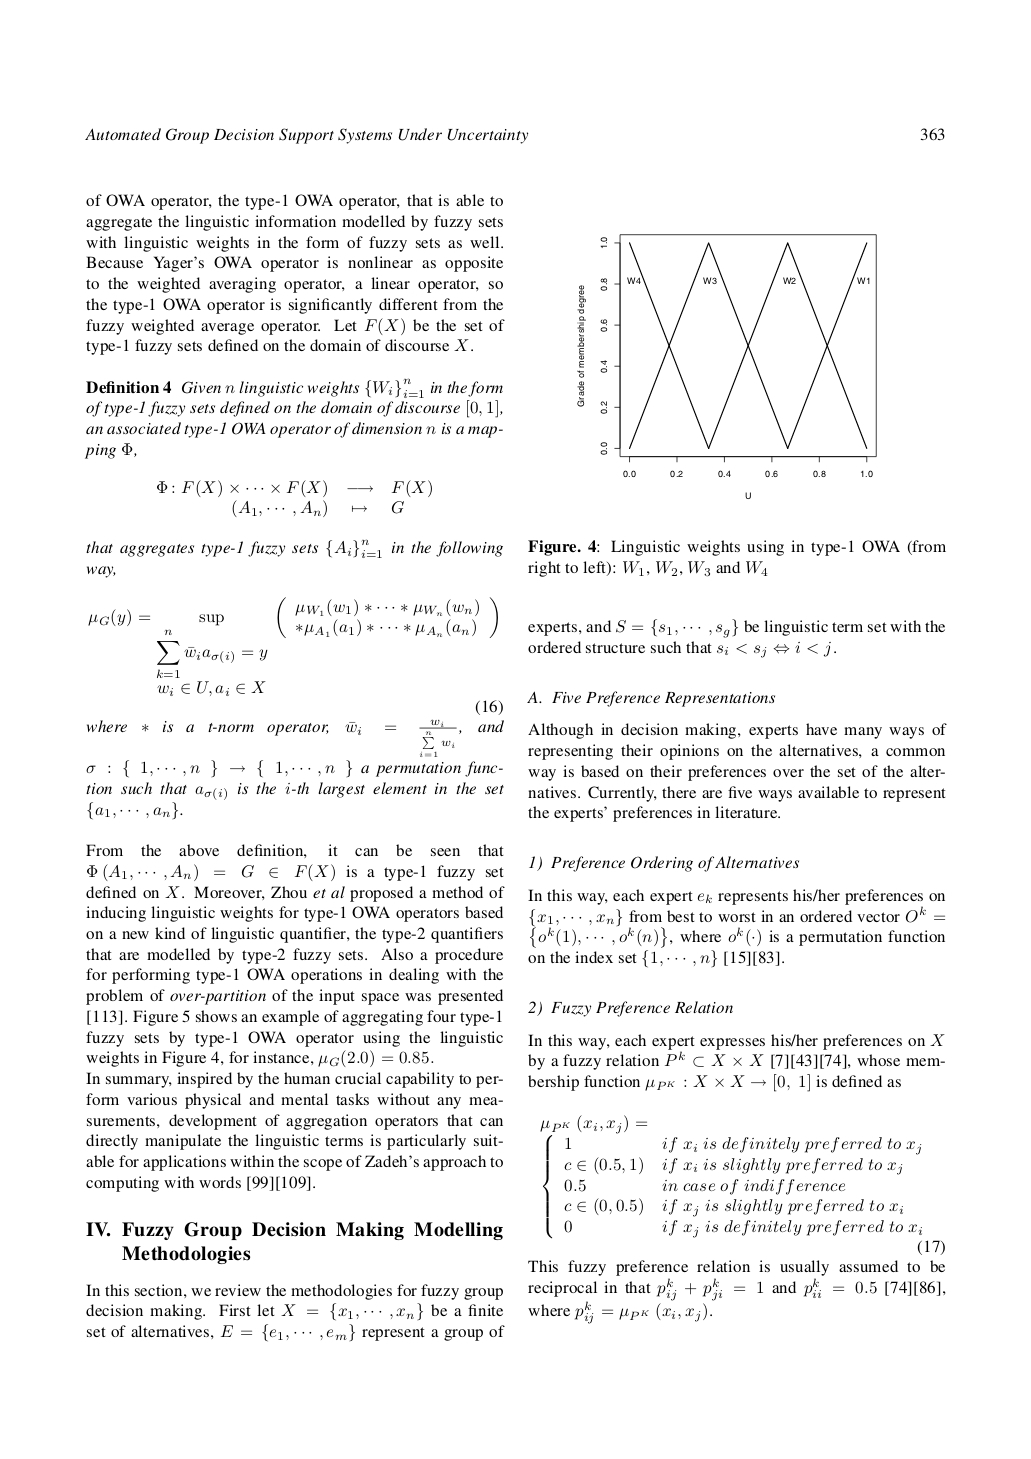figure: (577, 234, 876, 499)
formula: (540, 1114, 944, 1255), (88, 597, 500, 700), (157, 479, 431, 497), (232, 499, 403, 518), (87, 802, 182, 819)
